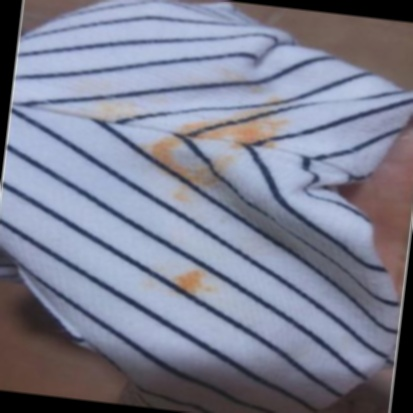kimchi: (184, 99, 284, 152), (81, 93, 136, 131), (180, 148, 228, 186), (170, 263, 213, 301), (142, 129, 183, 163), (209, 64, 249, 88), (167, 182, 189, 201), (263, 90, 279, 109)
